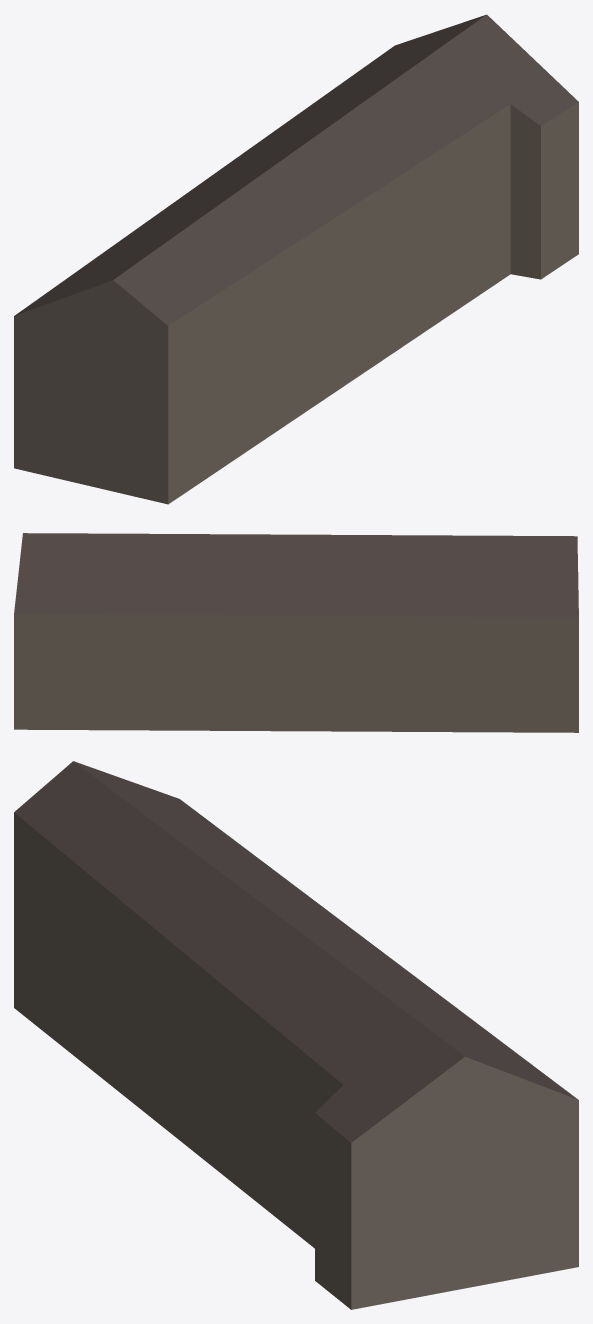
3 views of the same model, one above another, from view 1: azimuth 30°, elevation 25°; view 2: azimuth 150°, elevation 25°; view 3: azimuth 270°, elevation 25° (orthographic). The views are drawn at different scales.
Visible parts, largest first — view 1: HP-w1516161935; view 2: HP-w1516161935; view 3: HP-w1516161935.
Boxes of the visible parts, x1,y1,x2,y2 form: HP-w1516161935: (14, 14, 578, 504); HP-w1516161935: (14, 533, 578, 732); HP-w1516161935: (14, 761, 578, 1309).
Bounding box in the file's own units: 39.8 × 12.5 × 27.62.
